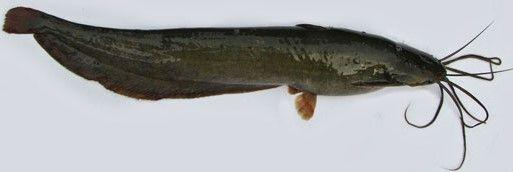Catfish: (3, 2, 455, 123)
